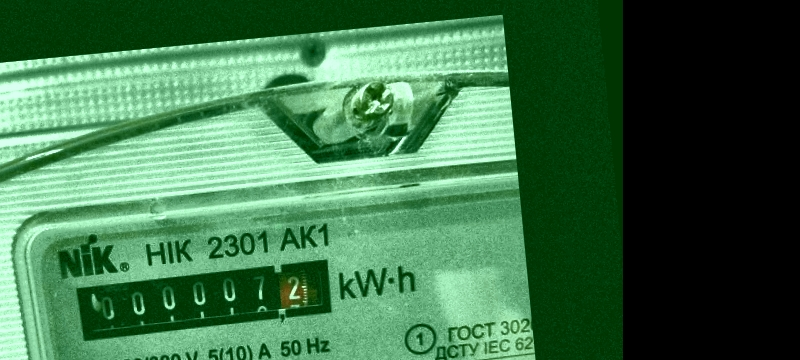0: (128, 288, 148, 318), (158, 283, 178, 312), (219, 274, 238, 304), (98, 293, 117, 322), (190, 278, 207, 307)
2: (284, 272, 303, 303)
7: (249, 273, 268, 303)
screen: (67, 250, 345, 347)
